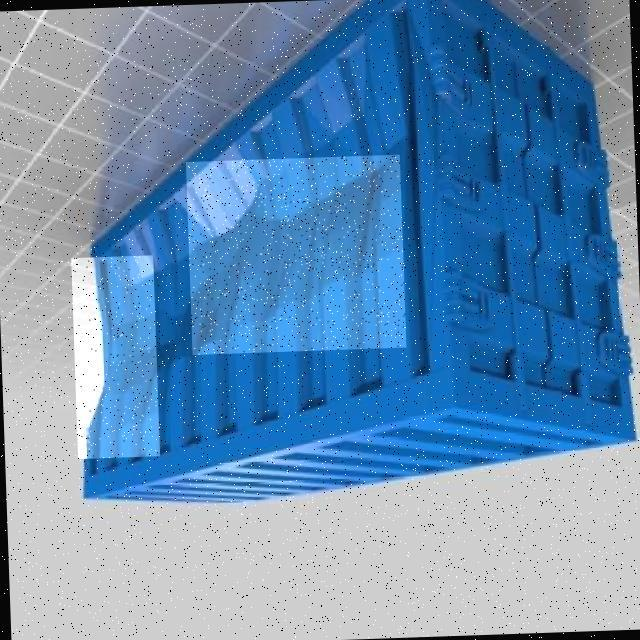Deframe: (68, 255, 159, 459)
Dent: (185, 155, 406, 355)
